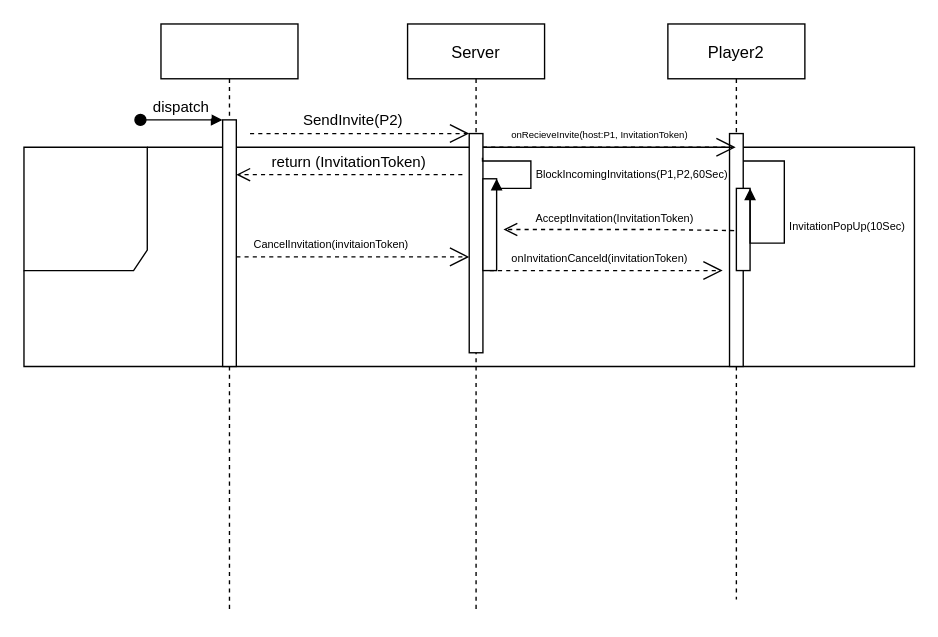
Some shapes in this 938 by 637 pixel diagram are drawn without their labels. Each missing label, with the box of its shape:
if player 1 cacnel invitation after player 2 accepted: (23, 146, 914, 366)
Player1: (160, 23, 298, 613)
